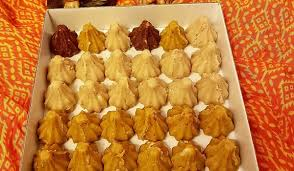modak: (97, 110, 154, 148), (65, 108, 110, 150), (73, 18, 112, 54), (99, 139, 141, 171), (171, 140, 214, 171), (199, 104, 235, 140), (204, 137, 242, 171), (196, 71, 235, 104), (126, 21, 167, 52), (187, 42, 226, 74), (183, 14, 221, 46), (164, 74, 202, 106), (159, 46, 195, 79), (128, 48, 168, 77), (48, 25, 83, 57), (167, 103, 202, 135), (138, 74, 169, 110), (49, 83, 87, 112), (136, 107, 171, 138), (36, 144, 76, 171), (103, 51, 137, 82), (40, 110, 68, 146), (160, 17, 191, 48), (49, 53, 78, 86), (75, 79, 106, 109), (142, 138, 170, 171), (68, 143, 100, 171), (106, 21, 134, 48), (106, 79, 133, 104), (76, 55, 104, 79)
